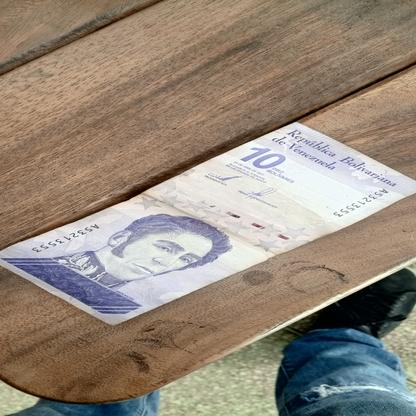ten-front-vef: (0, 121, 414, 326)
